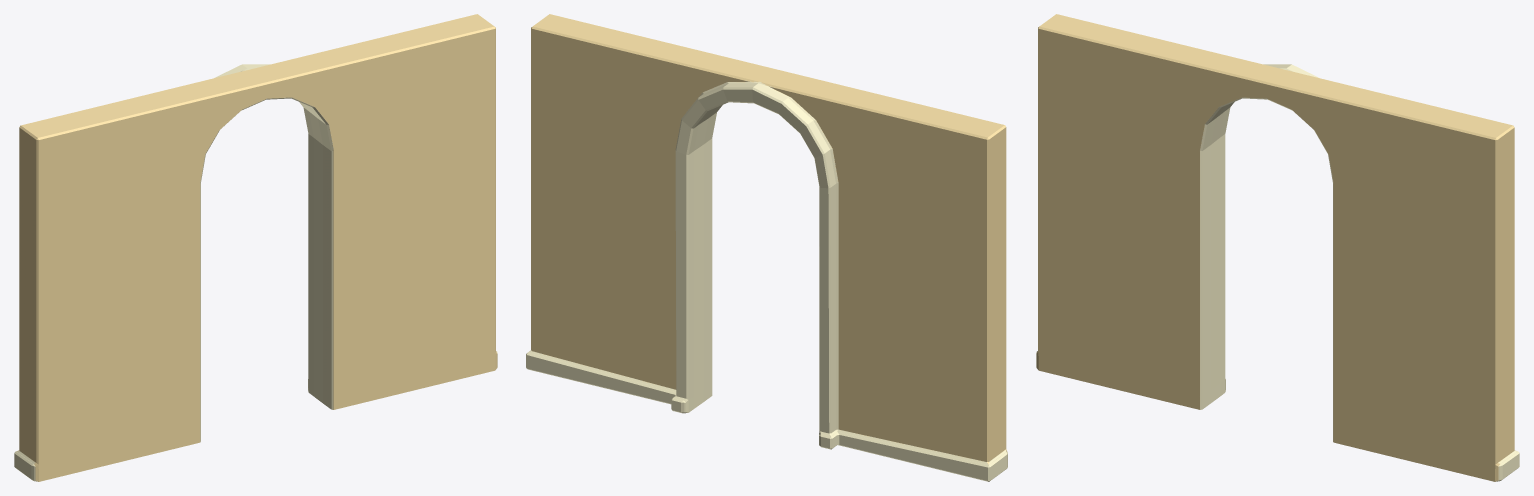
Rendered from ParedePorta.fbx.
The picture shows the model from 3 angles, left to right: view 1: azimuth 30°, elevation 25°; view 2: azimuth 150°, elevation 25°; view 3: azimuth 330°, elevation 25°; orthographic projection.
Visible parts, largest first — view 1: ParedePorta; view 2: ParedePorta; view 3: ParedePorta.
Part boxes in pixels (box(x1,y1,x2,y2)): ParedePorta: box(14, 14, 497, 481); ParedePorta: box(526, 14, 1007, 481); ParedePorta: box(1036, 14, 1519, 481).
Bounding box in the file's own units: 1427 × 1005 × 144.
